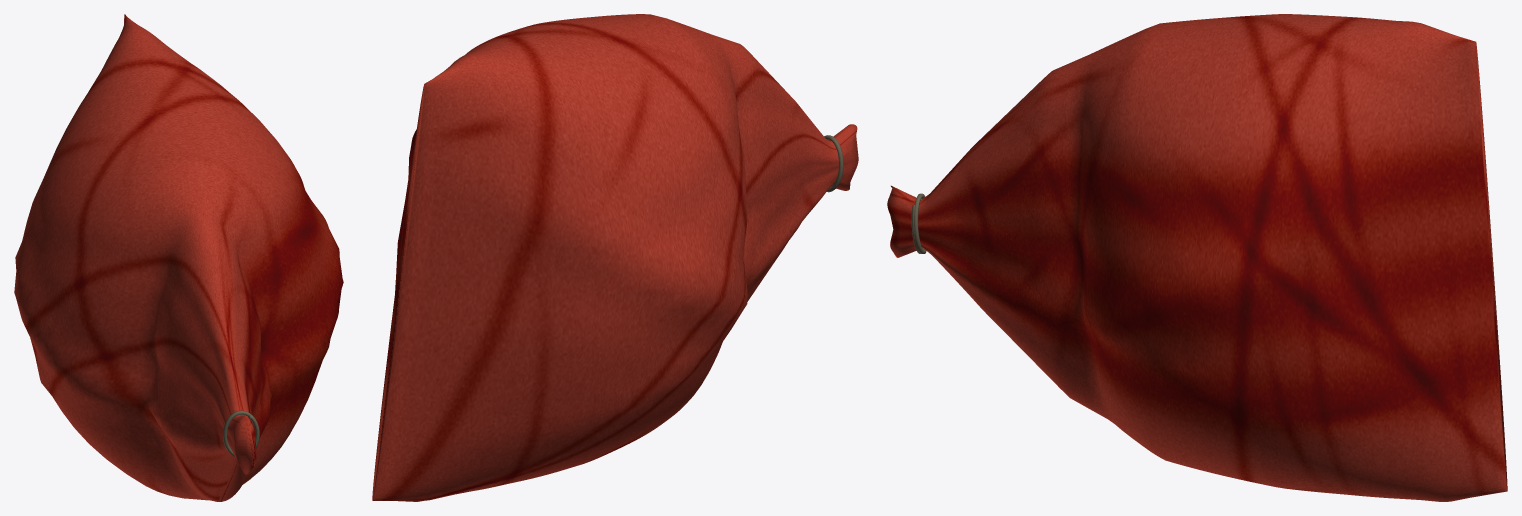
File: peach_01_028.glb
3 renders of one model, left to right at view 1: azimuth 30°, elevation 25°; view 2: azimuth 150°, elevation 25°; view 3: azimuth 270°, elevation 25°, orthographic. The views are drawn at different scales.
Visible parts, largest first — view 1: export_Tree01/shoot2_6_1/bag, export_Tree01/shoot2_6_1/bag/tie; view 2: export_Tree01/shoot2_6_1/bag; view 3: export_Tree01/shoot2_6_1/bag.
Part boxes in pixels (<box>): export_Tree01/shoot2_6_1/bag: <box>14,14,343,501</box>; export_Tree01/shoot2_6_1/bag/tie: <box>223,410,259,456</box>; export_Tree01/shoot2_6_1/bag: <box>372,14,858,501</box>; export_Tree01/shoot2_6_1/bag: <box>887,14,1507,501</box>.
Bounding box in the file's own units: 0.0933 × 0.126 × 0.1546.
Materials: 4 (1 with a texture image).
